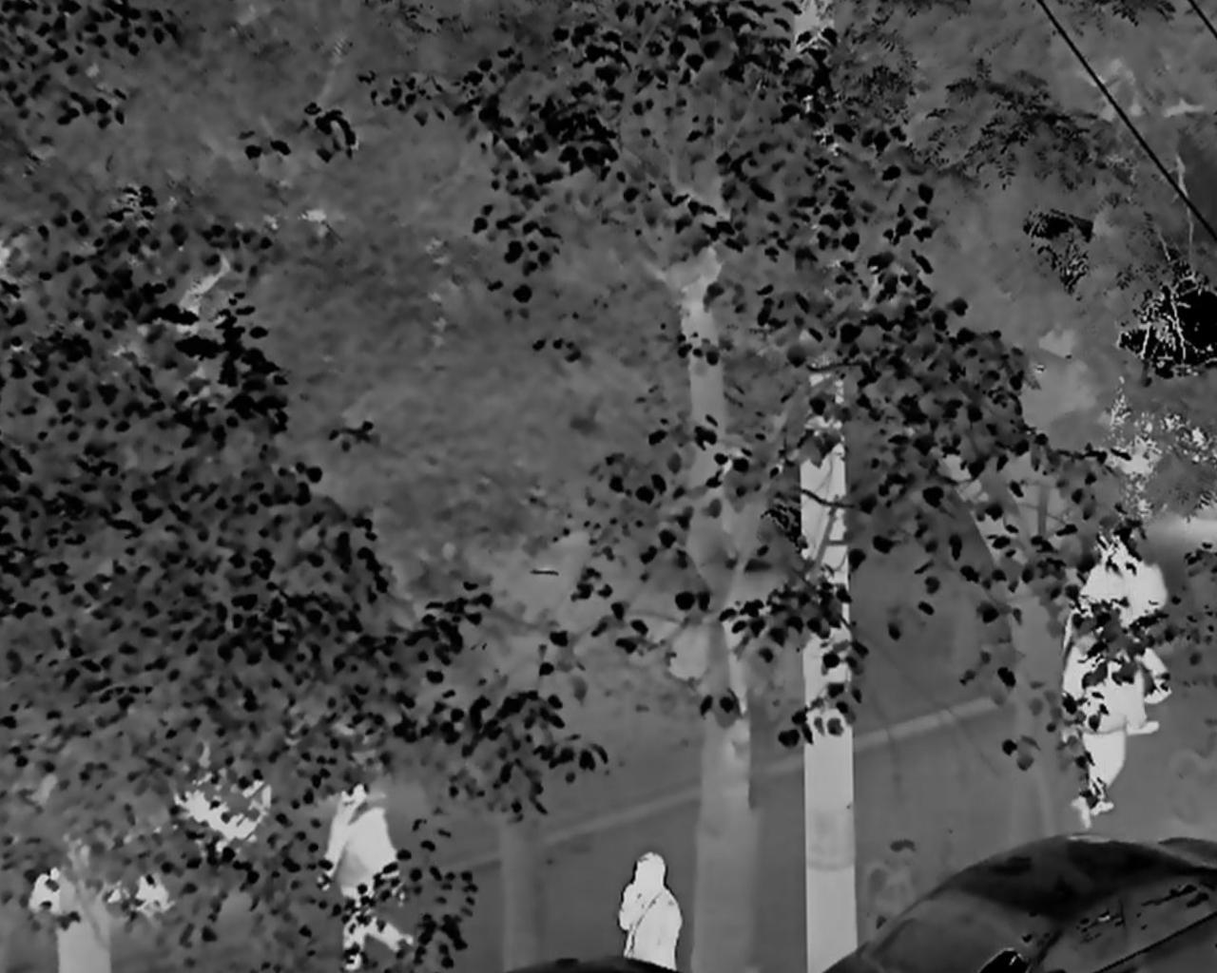person: (1077, 525, 1165, 816), (323, 777, 413, 973), (620, 853, 683, 973)
